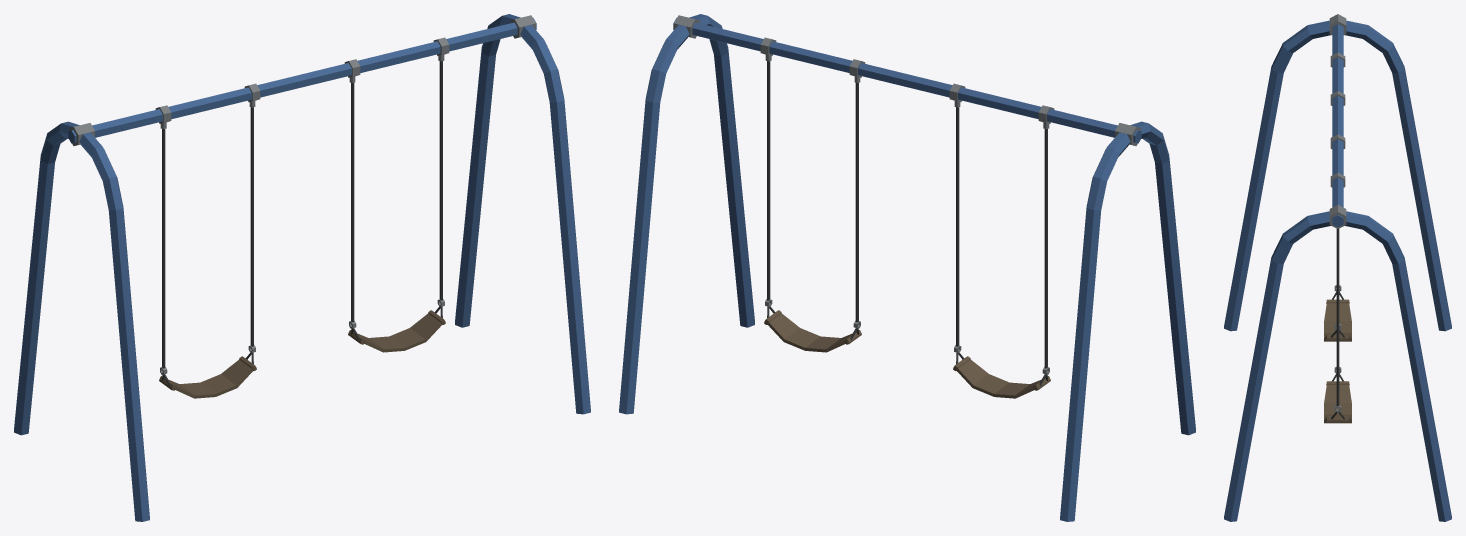
Rendered from SM_Props_City_PlayGround_Equipment_Swing_01.fbx.
The picture shows the model from 3 angles, left to right: view 1: azimuth 30°, elevation 25°; view 2: azimuth 150°, elevation 25°; view 3: azimuth 270°, elevation 25°; orthographic projection. The views are drawn at different scales.
Visible parts, largest first — view 1: SM_Props_City_PlayGround_Equipment_Swing_01; view 2: SM_Props_City_PlayGround_Equipment_Swing_01; view 3: SM_Props_City_PlayGround_Equipment_Swing_01.
Boxes of the visible parts, <box> form: SM_Props_City_PlayGround_Equipment_Swing_01: <box>14,14,590,521</box>; SM_Props_City_PlayGround_Equipment_Swing_01: <box>619,14,1195,521</box>; SM_Props_City_PlayGround_Equipment_Swing_01: <box>1224,14,1451,521</box>.
Bounding box in the file's own units: 440 × 320 × 212.
